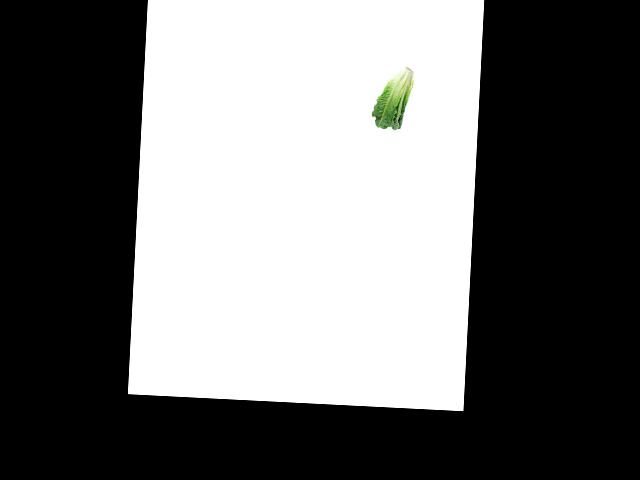lettuce: (372, 61, 416, 132)
